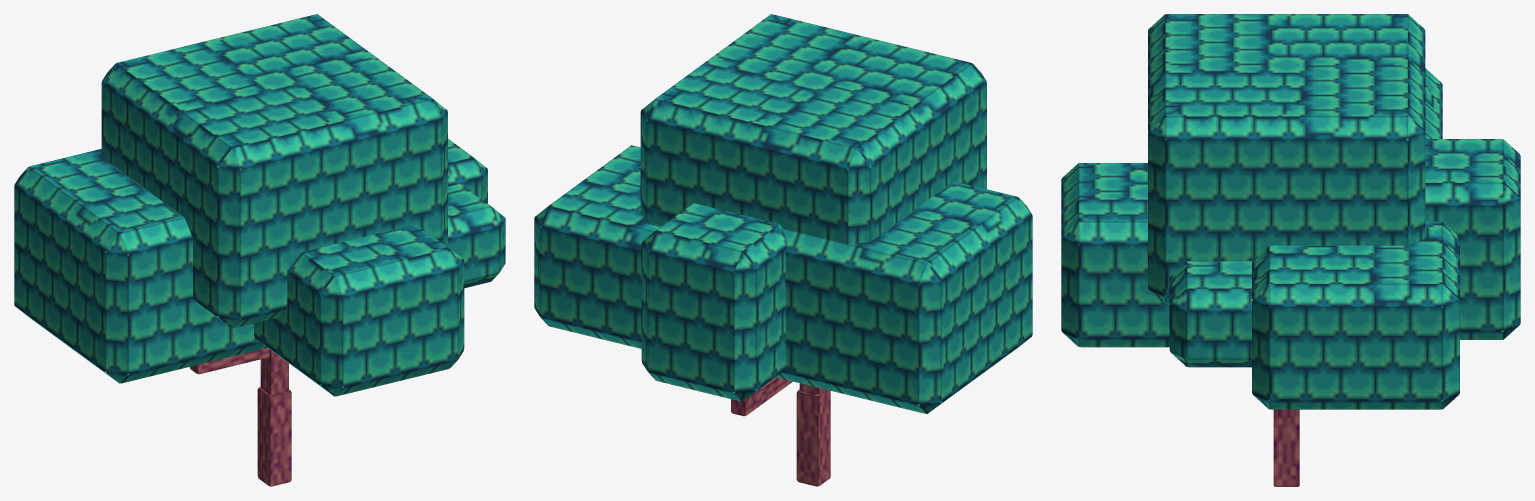
Rendered from Basic_Tree_1.fbx.
3 renders of one model, left to right at view 1: azimuth 30°, elevation 25°; view 2: azimuth 150°, elevation 25°; view 3: azimuth 270°, elevation 25°, orthographic. The views are drawn at different scales.
Visible parts, largest first — view 1: beveled_cuboid, beveled_cuboid_5, beveled_cuboid_4, beveled_cuboid_3, Trunk_1, beveled_cuboid_2, Trunk_2, cube_2; view 2: beveled_cuboid, beveled_cuboid_5, beveled_cuboid_1, beveled_cuboid_2, Trunk_1, cube_6; view 3: beveled_cuboid, beveled_cuboid_2, beveled_cuboid_4, beveled_cuboid_1, beveled_cuboid_3, Trunk_1, beveled_cuboid_5.
Part boxes in pixels (<box>): beveled_cuboid: <box>101,14,447,328</box>; beveled_cuboid_5: <box>14,149,267,383</box>; beveled_cuboid_4: <box>254,224,464,396</box>; beveled_cuboid_3: <box>448,184,505,288</box>; Trunk_1: <box>257,387,291,486</box>; beveled_cuboid_2: <box>448,139,487,203</box>; Trunk_2: <box>260,349,288,394</box>; cube_2: <box>190,348,269,374</box>; beveled_cuboid: <box>640,14,986,273</box>; beveled_cuboid_5: <box>755,165,1032,413</box>; beveled_cuboid_1: <box>641,203,787,401</box>; beveled_cuboid_2: <box>534,145,661,348</box>; Trunk_1: <box>796,389,830,486</box>; cube_6: <box>731,377,792,416</box>; beveled_cuboid: <box>1148,14,1425,304</box>; beveled_cuboid_2: <box>1252,221,1459,409</box>; beveled_cuboid_4: <box>1061,163,1188,347</box>; beveled_cuboid_1: <box>1406,139,1520,339</box>; beveled_cuboid_3: <box>1169,261,1270,367</box>; Trunk_1: <box>1273,409,1299,486</box>; beveled_cuboid_5: <box>1406,68,1442,138</box>.
Size of the model in its own units: 694 by 662 by 662.
Materials: 1 (1 with a texture image).
